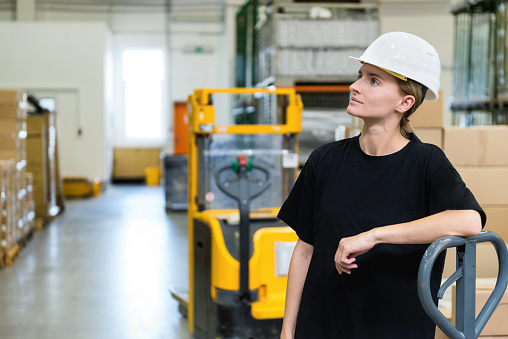em pe: (261, 35, 489, 339)
